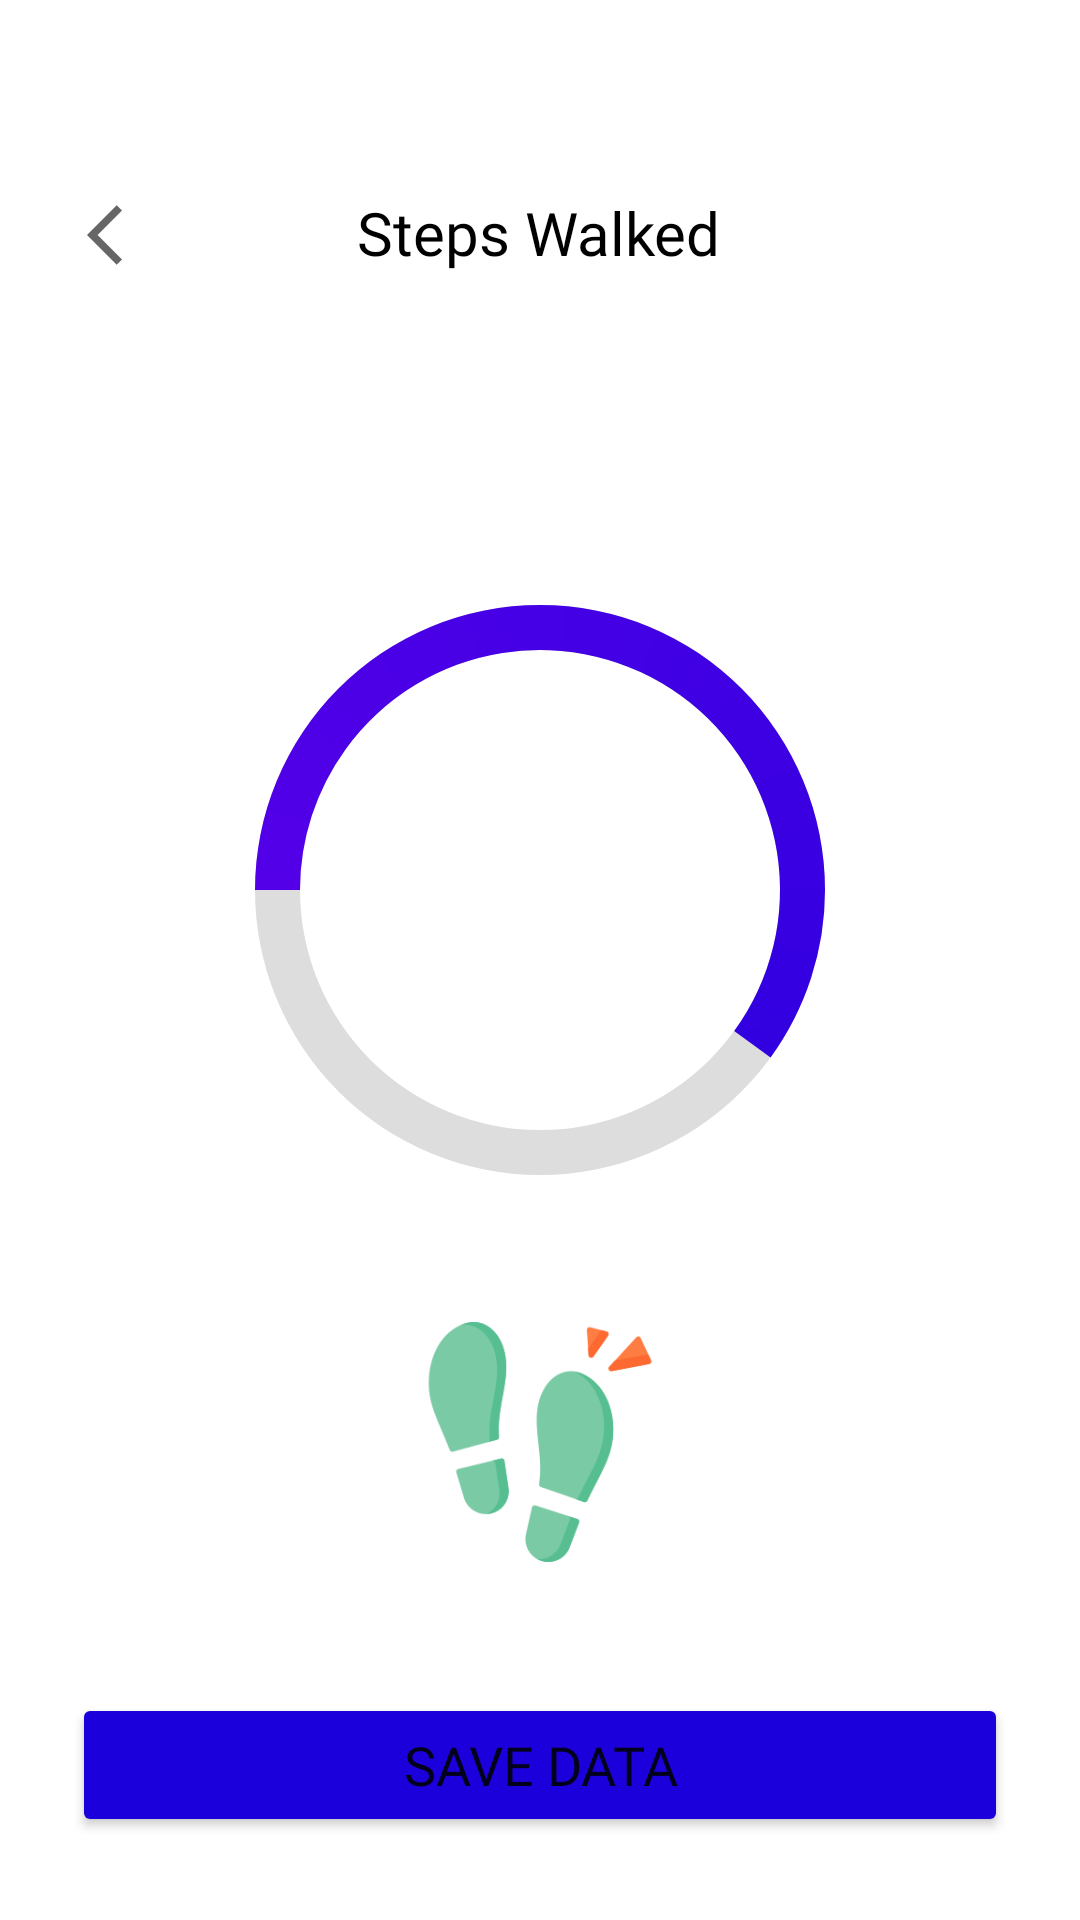

Where to tap for icons on this 1080x1920 app screen, as (x,y):
arrow back: (104,235)
foot: (540,1442)
